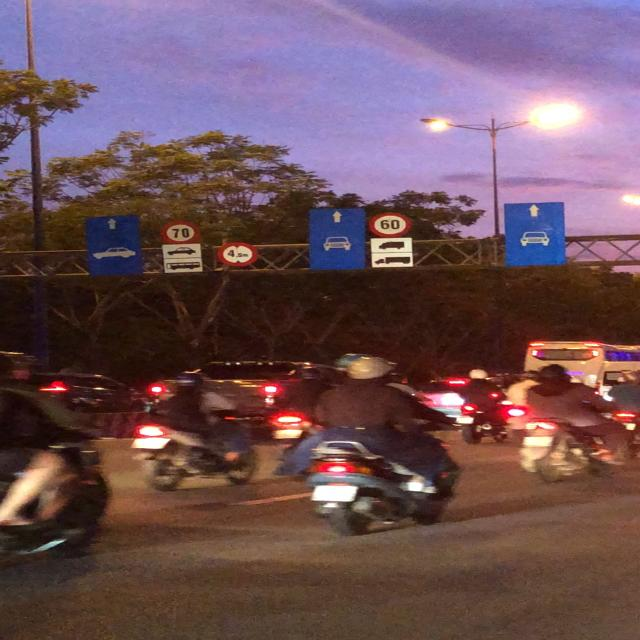Bien bao han che chieu cao: (216, 241, 263, 268)
Bien bao toc do toi da cho phep: (360, 211, 416, 237), (157, 218, 205, 245)
